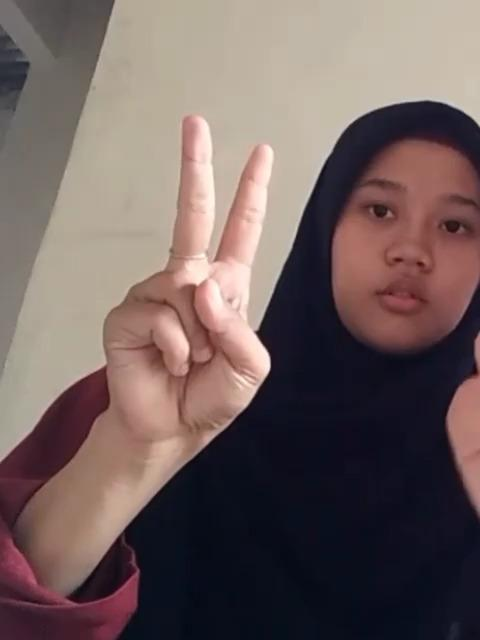V: (101, 104, 289, 460)
